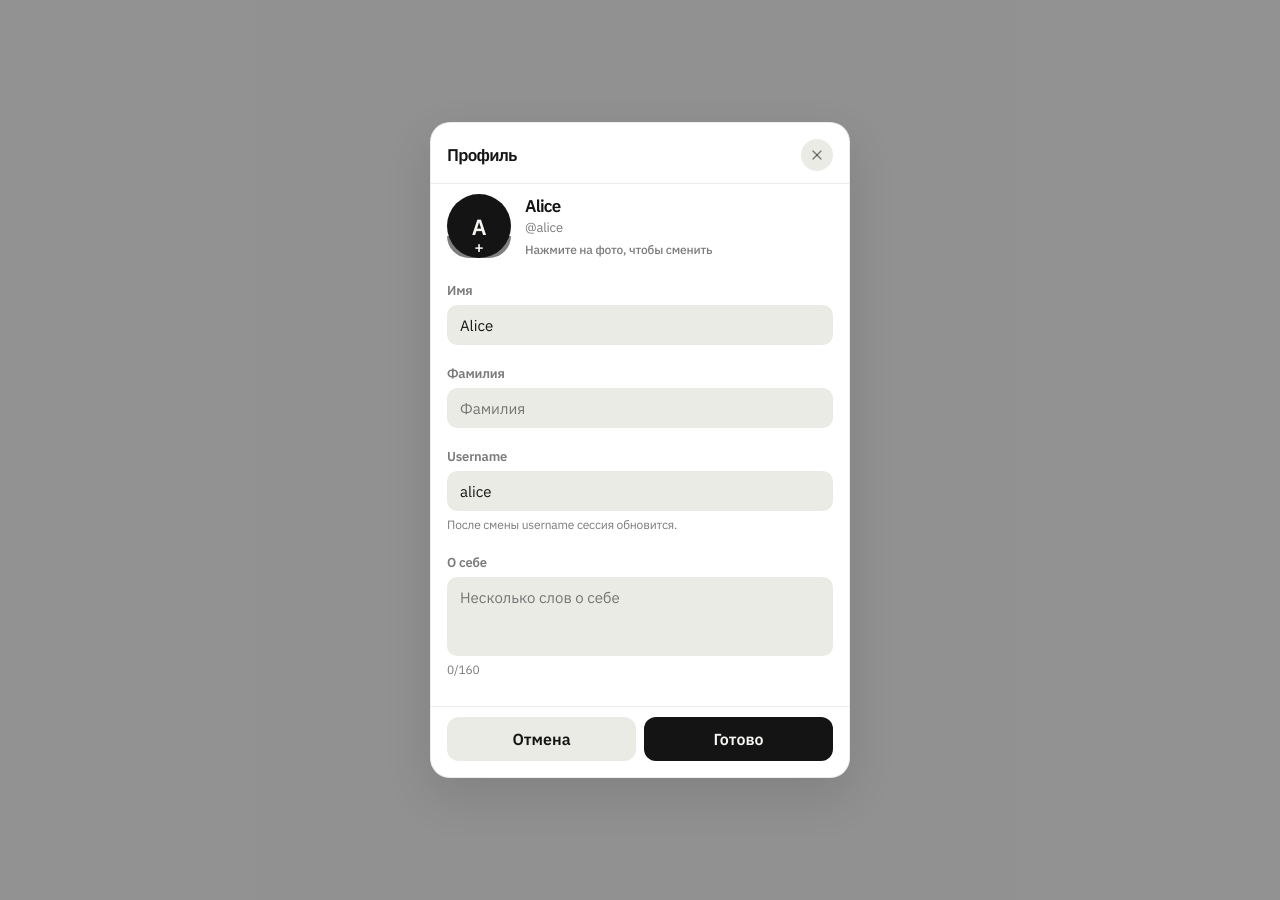
Test: ProfileModal critical UI flow › shows profile save error in editing mode
Step 1. Click the button "Готово" → (738, 739), box [644,717,833,761]
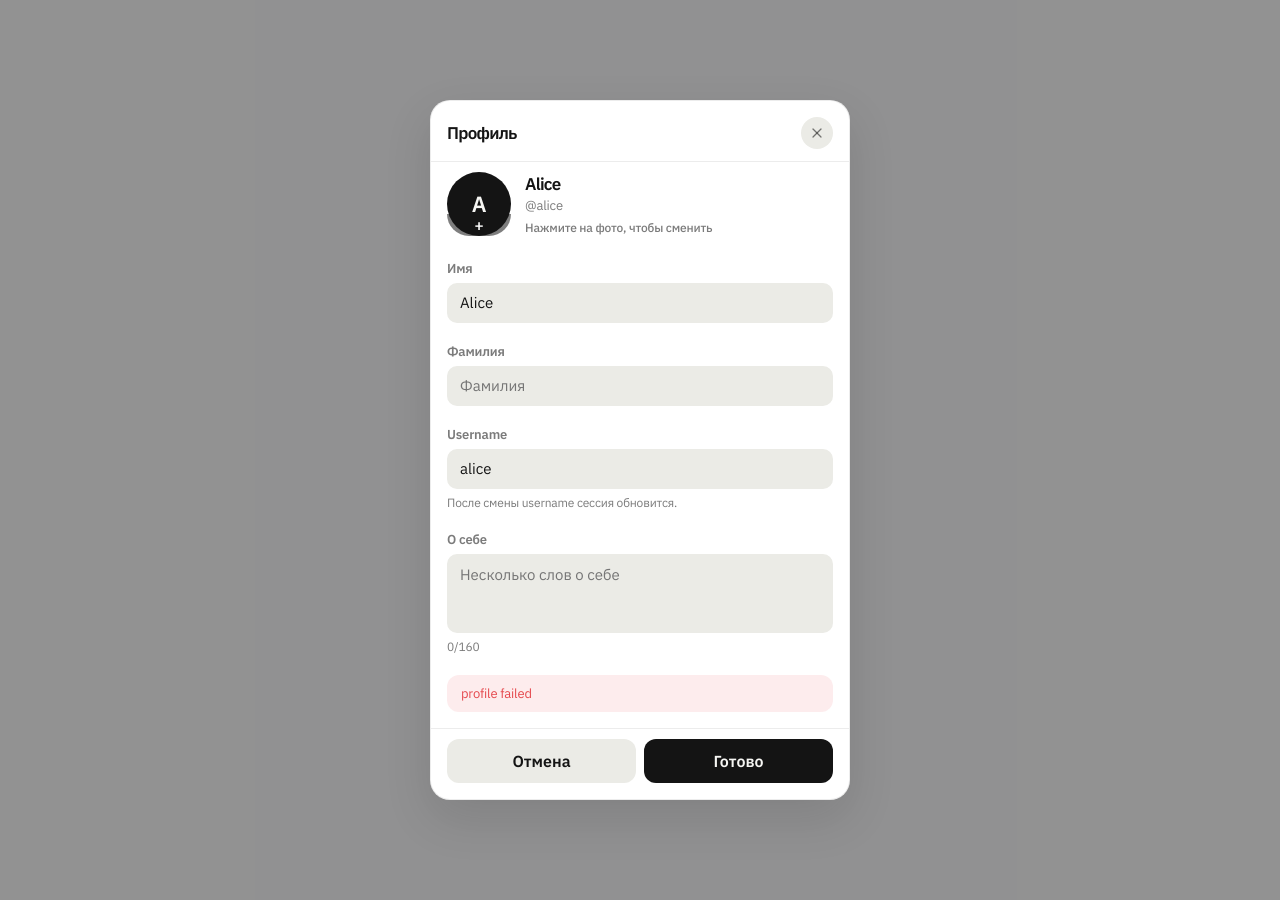
Expected: the text "profile failed" is shown, [447,675,833,712]
